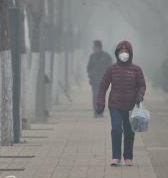person: (95, 40, 152, 168), (85, 39, 115, 118)
